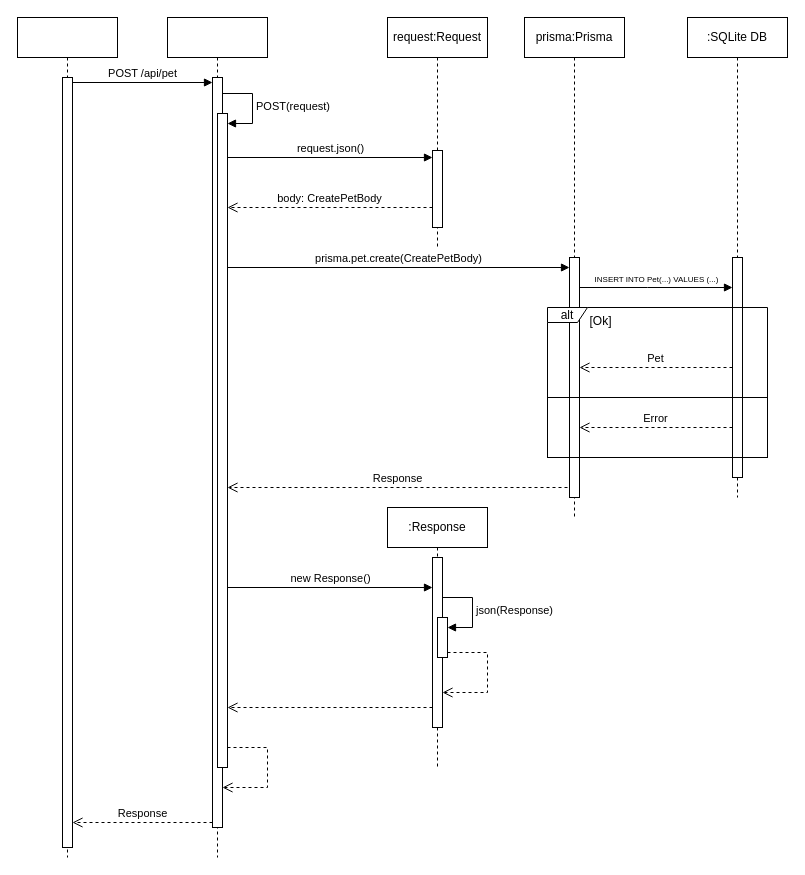
The diagram is 805 pixels wide and 875 high, and some of its shapes have lost their labels. Here are the shapes that lost their labels. From the top down, the box of each, then its label:
(16, 16, 118, 858): :Client
(166, 16, 268, 858): :Server
(546, 396, 768, 458): [Error]
